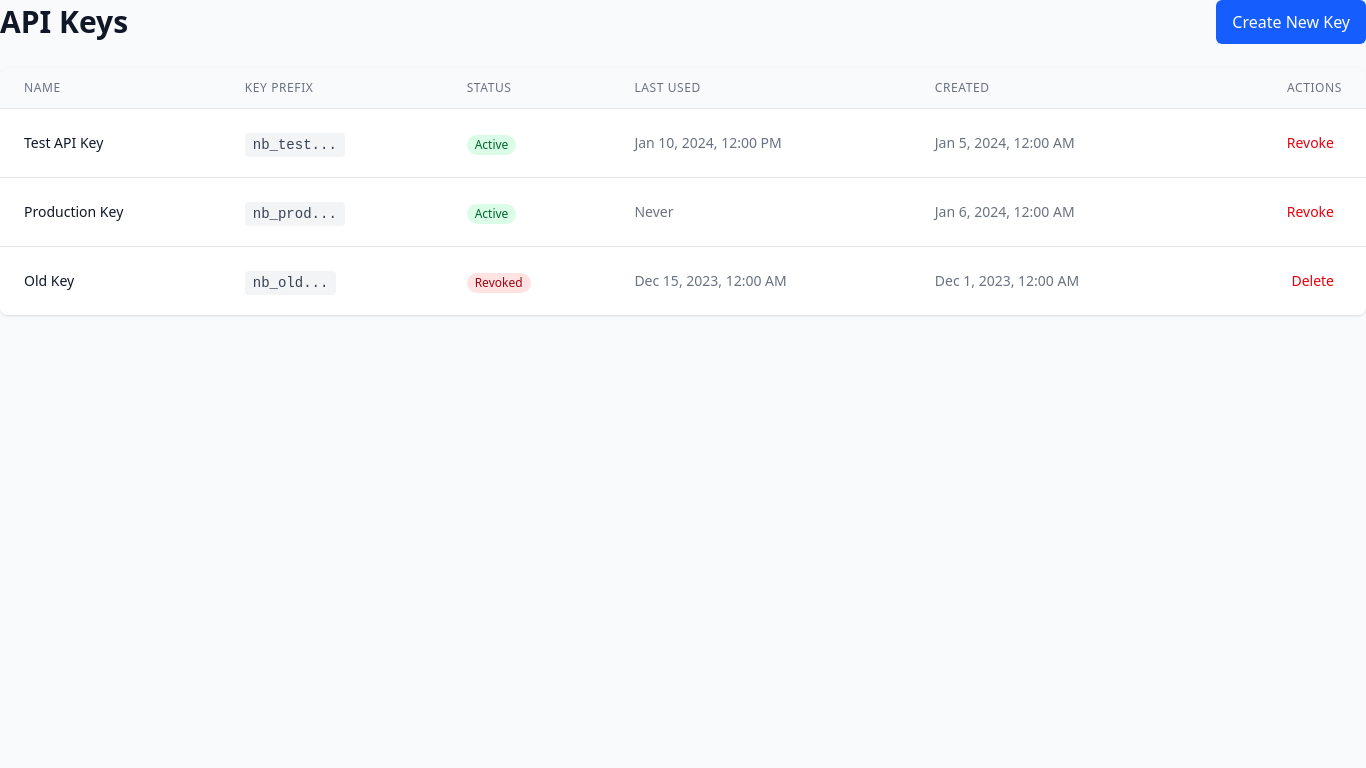
ApiKeys Page › Create API Key › should create API key successfully
The image size is (1366, 768).
Open create modal
Click the button "Create New Key". click: (1291, 22)
box: [1216, 0, 1365, 44]
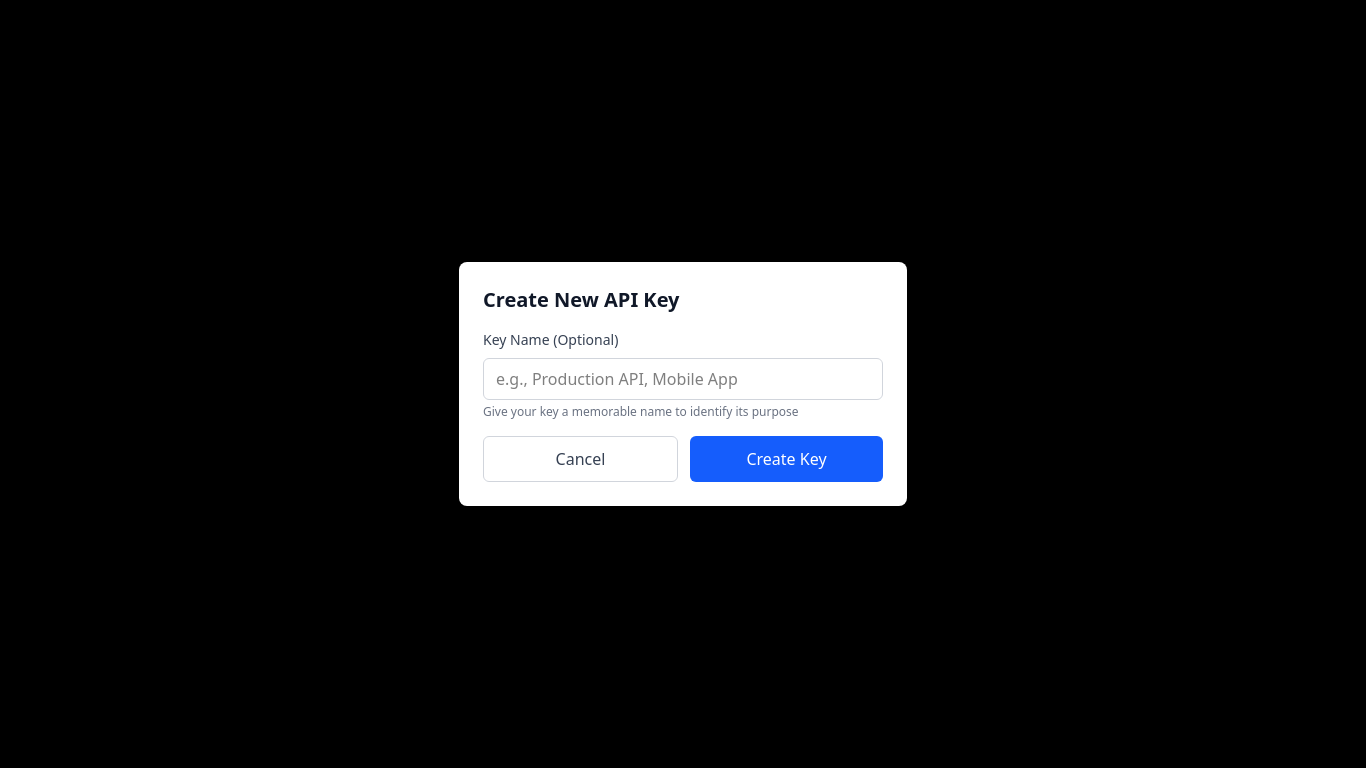
Fill in key name
Type "My New Key" into the field labelled "Key Name (Optional)". click: (683, 379)
box: [483, 358, 883, 400]
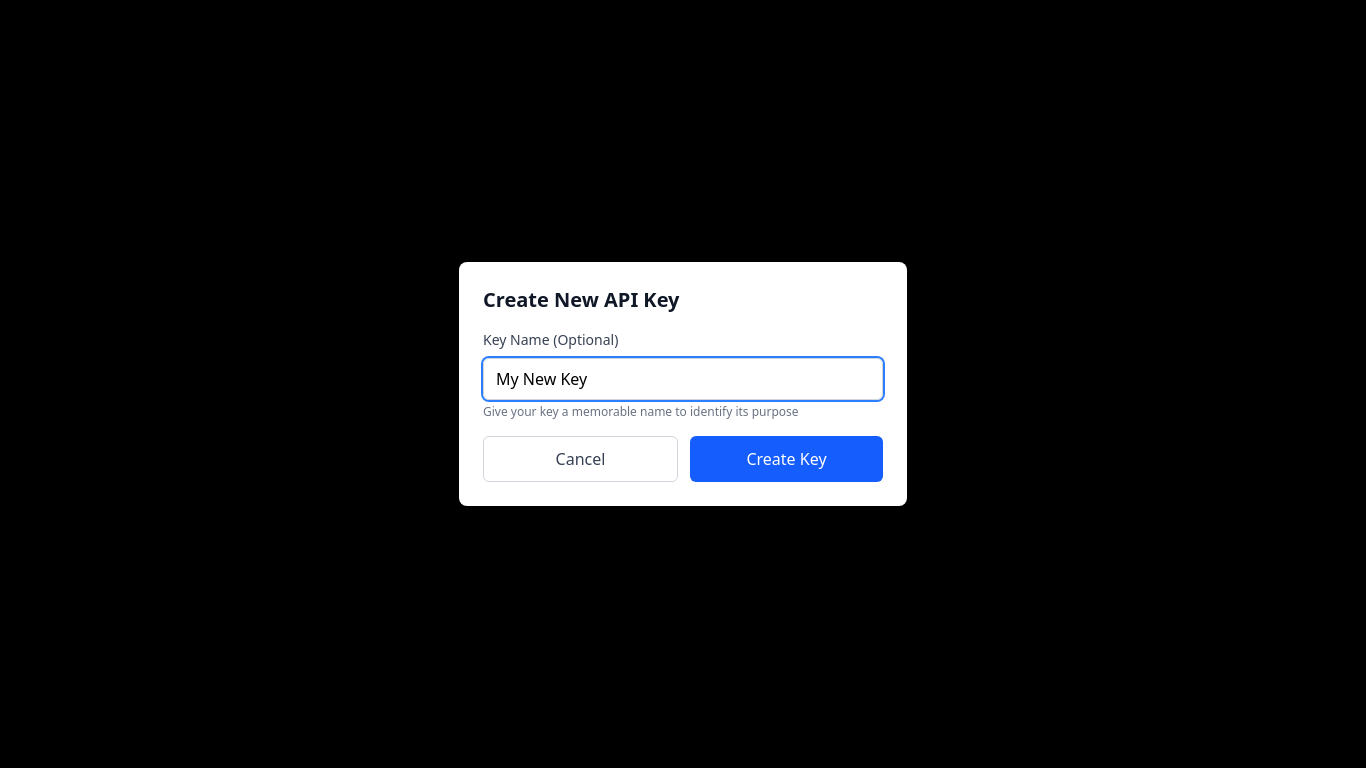
Submit form
Click the button "Create Key". click: (786, 459)
box: [690, 436, 883, 482]
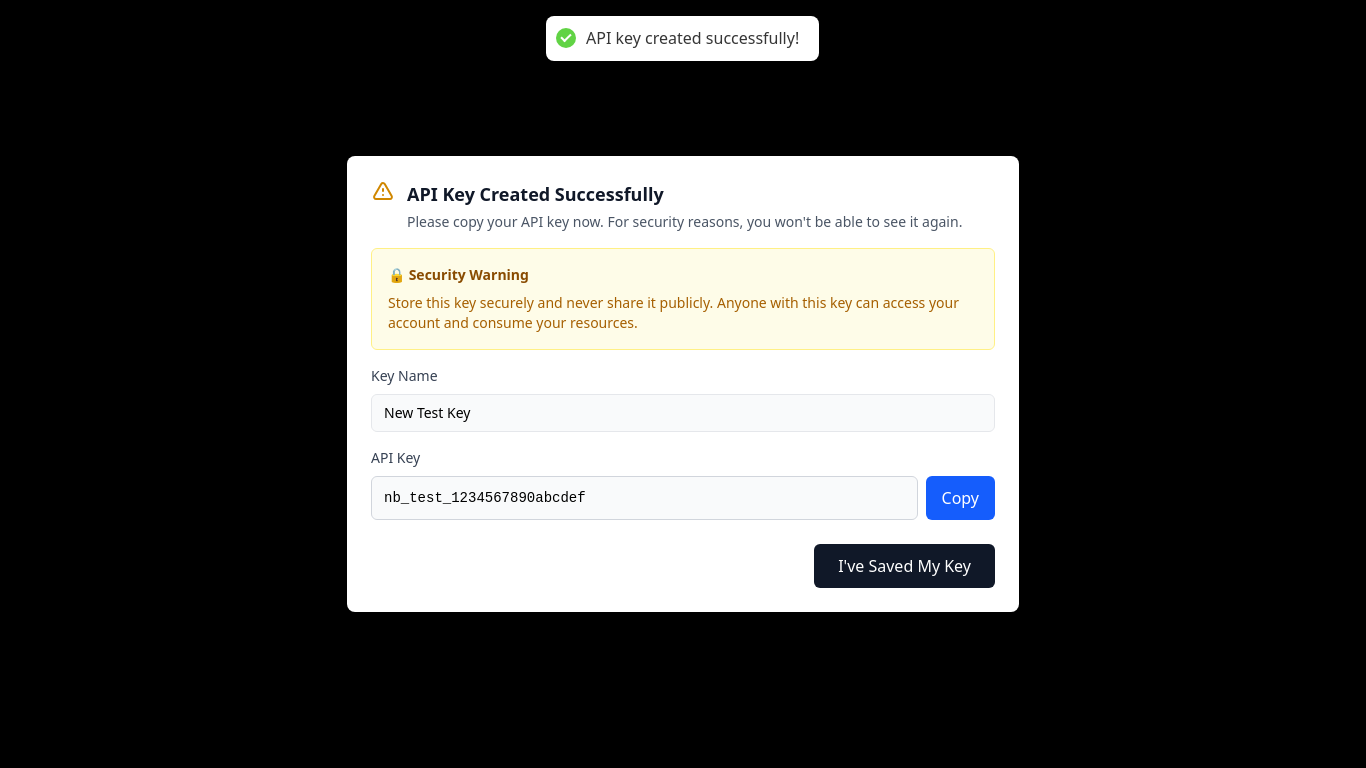
expect the heading "API Key Created Successfully" is shown: met, box [407, 182, 664, 206]
expect the field showing "nb_test_1234567890abcdef" is shown: met, box [371, 476, 918, 520]
